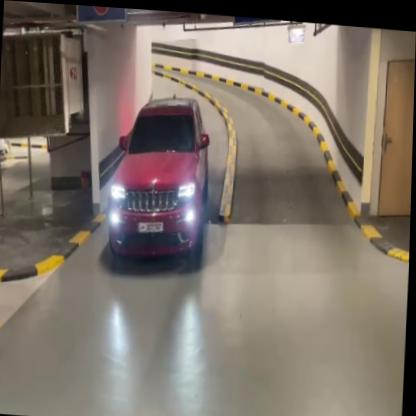np: (135, 214, 166, 233)
